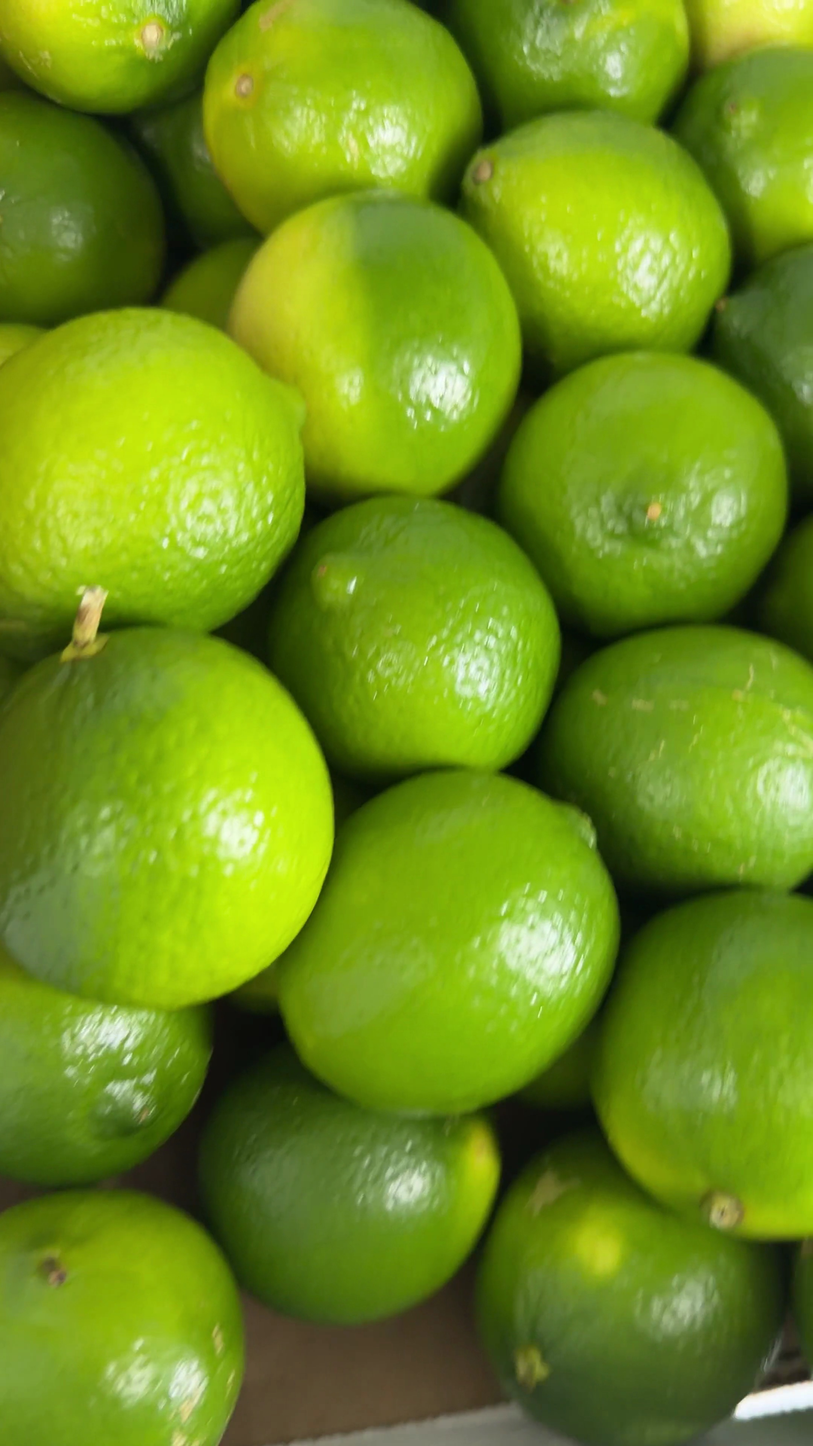lime: (0, 628, 332, 1008), (280, 772, 618, 1113), (0, 308, 304, 656), (477, 1132, 785, 1446), (230, 192, 521, 503), (199, 1046, 499, 1324), (269, 496, 560, 781), (496, 352, 787, 637), (593, 890, 813, 1239), (537, 626, 813, 894), (463, 111, 730, 374), (204, 0, 481, 233), (0, 1190, 243, 1446), (0, 949, 211, 1186), (0, 92, 163, 326), (442, 0, 689, 129), (674, 47, 813, 266), (0, 0, 239, 113), (713, 245, 813, 501), (130, 90, 255, 249), (161, 237, 259, 331), (685, 0, 813, 70), (757, 517, 813, 662), (518, 1016, 600, 1110), (230, 953, 285, 1014), (792, 1236, 813, 1358), (0, 322, 43, 366), (0, 655, 23, 702), (0, 50, 25, 92)
